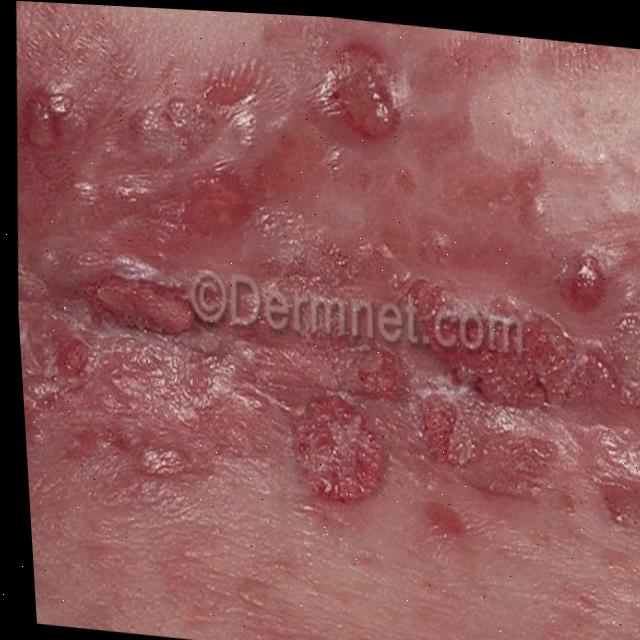Shingles: (1, 18, 640, 545)
